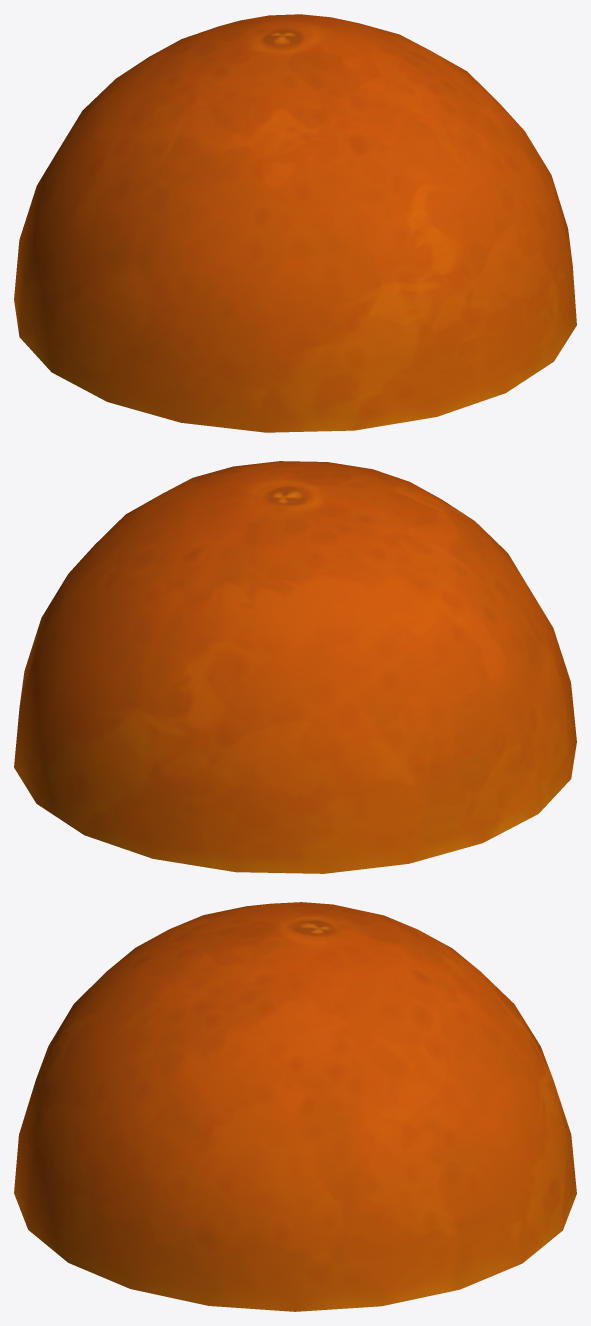
Rendered from SM_OrangeCutBottom.fbx.
3 views of the same model, one above another, from view 1: azimuth 30°, elevation 25°; view 2: azimuth 150°, elevation 25°; view 3: azimuth 270°, elevation 25° (orthographic).
Parts seen in each view (by area): view 1: SM_OrangeCutBottom; view 2: SM_OrangeCutBottom; view 3: SM_OrangeCutBottom.
Boxes of the visible parts, box(x1,y1,x2,y2) form: SM_OrangeCutBottom: box(14, 14, 576, 432); SM_OrangeCutBottom: box(14, 461, 576, 873); SM_OrangeCutBottom: box(14, 902, 576, 1311).
Size of the model in its own units: 17.5 by 9.18 by 17.65.
1 material, 1 textured.
